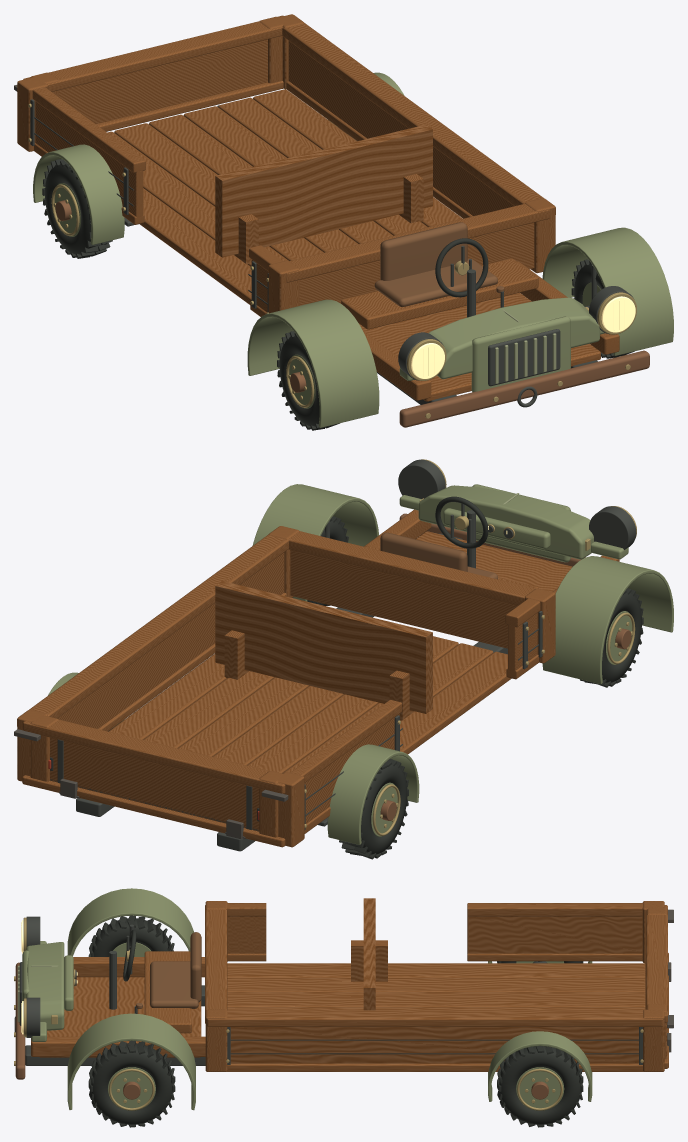
The model's file is zombie-crew-cart-farm-v1.glb.
3 views of the same model, one above another, from view 1: azimuth 30°, elevation 25°; view 2: azimuth 150°, elevation 25°; view 3: azimuth 270°, elevation 25° (orthographic). The views are drawn at different scales.
Visible parts, largest first — view 1: giant_bench, farm_fender_FR, rear_gate_panel, farm_fender_FL, side_top_rail_1, side_panel_1, farm_low_bonnet, front_low_bumper, rear_gate_top_rail, cargo_front_partition, rear_floor_plank_00, farm_fender_BR (+33 smaller); view 2: giant_bench, cargo_front_partition, farm_fender_FR, rear_gate_panel, side_top_rail_1, side_panel_1, farm_low_bonnet, partition_top_cap, rear_gate_top_rail, farm_fender_FL, farm_fender_BR, rear_floor_plank_00 (+34 smaller); view 3: side_panel_1, side_top_rail_1, side_panel_-1_bay_0, rear_floor_plank_02, rear_floor_plank_01, rear_floor_plank_00, farm_fender_FL, driver_floor, farm_fender_FR, rubber_tyre_FL, rubber_tyre_BL, side_bottom_rail_1 (+36 smaller).
Boxes of the visible parts, x1,y1,x2,y2 form: giant_bench: (215, 124, 432, 257); farm_fender_FR: (247, 299, 379, 427); rear_gate_panel: (58, 39, 267, 124); farm_fender_FL: (542, 227, 673, 355); side_top_rail_1: (282, 23, 555, 214); side_panel_1: (288, 41, 514, 215); farm_low_bonnet: (428, 297, 599, 379); front_low_bumper: (399, 350, 649, 427); rear_gate_top_rail: (23, 15, 283, 91); cargo_front_partition: (299, 222, 534, 305); rear_floor_plank_00: (139, 188, 251, 304); farm_fender_BR: (33, 144, 124, 244); giant_bench: (215, 581, 432, 713); cargo_front_partition: (290, 550, 518, 648); farm_fender_FR: (542, 556, 673, 684); rear_gate_panel: (50, 737, 259, 831); side_top_rail_1: (17, 534, 288, 726); side_panel_1: (57, 552, 284, 728); farm_low_bonnet: (418, 485, 593, 559); partition_top_cap: (288, 531, 535, 605); rear_gate_top_rail: (23, 719, 285, 793); farm_fender_FL: (252, 484, 378, 601); farm_fender_BR: (327, 744, 419, 844); rear_floor_plank_00: (400, 651, 511, 754); side_panel_1: (230, 1027, 638, 1063); side_top_rail_1: (206, 1010, 663, 1026); side_panel_-1_bay_0: (467, 916, 642, 953); rear_floor_plank_02: (227, 992, 645, 1007); rear_floor_plank_01: (227, 978, 645, 992); rear_floor_plank_00: (227, 963, 645, 977); farm_fender_FL: (67, 1013, 195, 1110); driver_floor: (39, 977, 201, 1057); farm_fender_FR: (67, 888, 194, 955); rubber_tyre_FL: (91, 1043, 172, 1124); rubber_tyre_BL: (499, 1046, 580, 1124); side_bottom_rail_1: (227, 1063, 642, 1071).
Bounding box in the file's own units: 3.85 × 1.53 × 7.17.
Materials: 11 (1 with a texture image).
